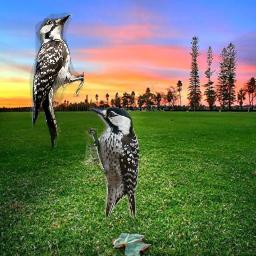Woodpecker: (28, 11, 84, 153), (83, 106, 139, 222)
